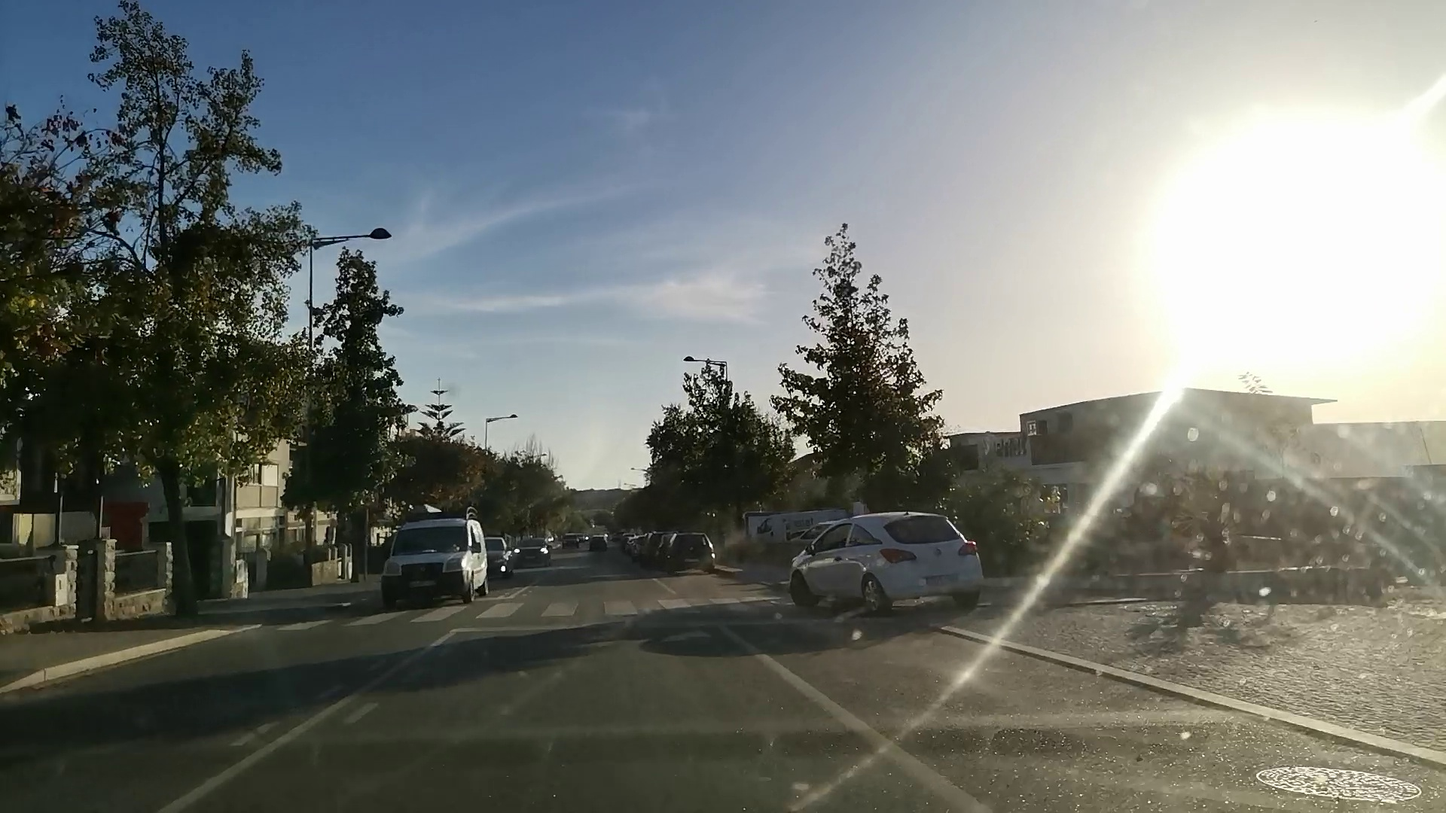Stairs: (272, 595, 797, 632)
